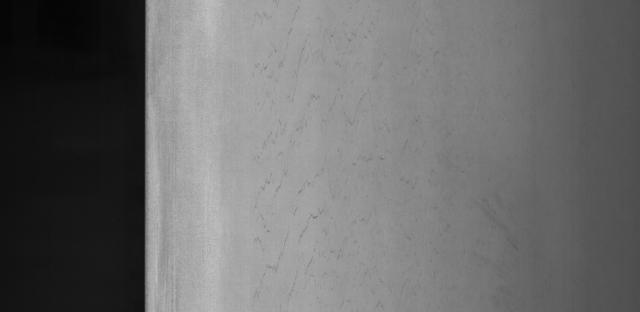silk_spot: (247, 3, 393, 296)
